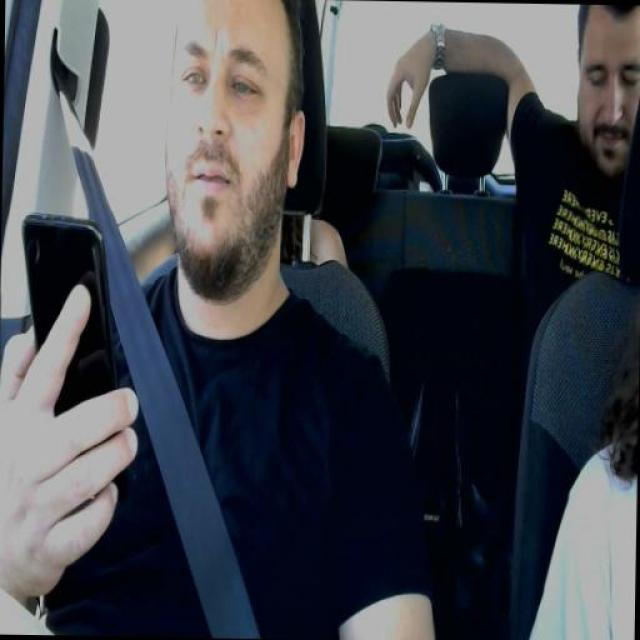phone: (24, 214, 110, 410)
